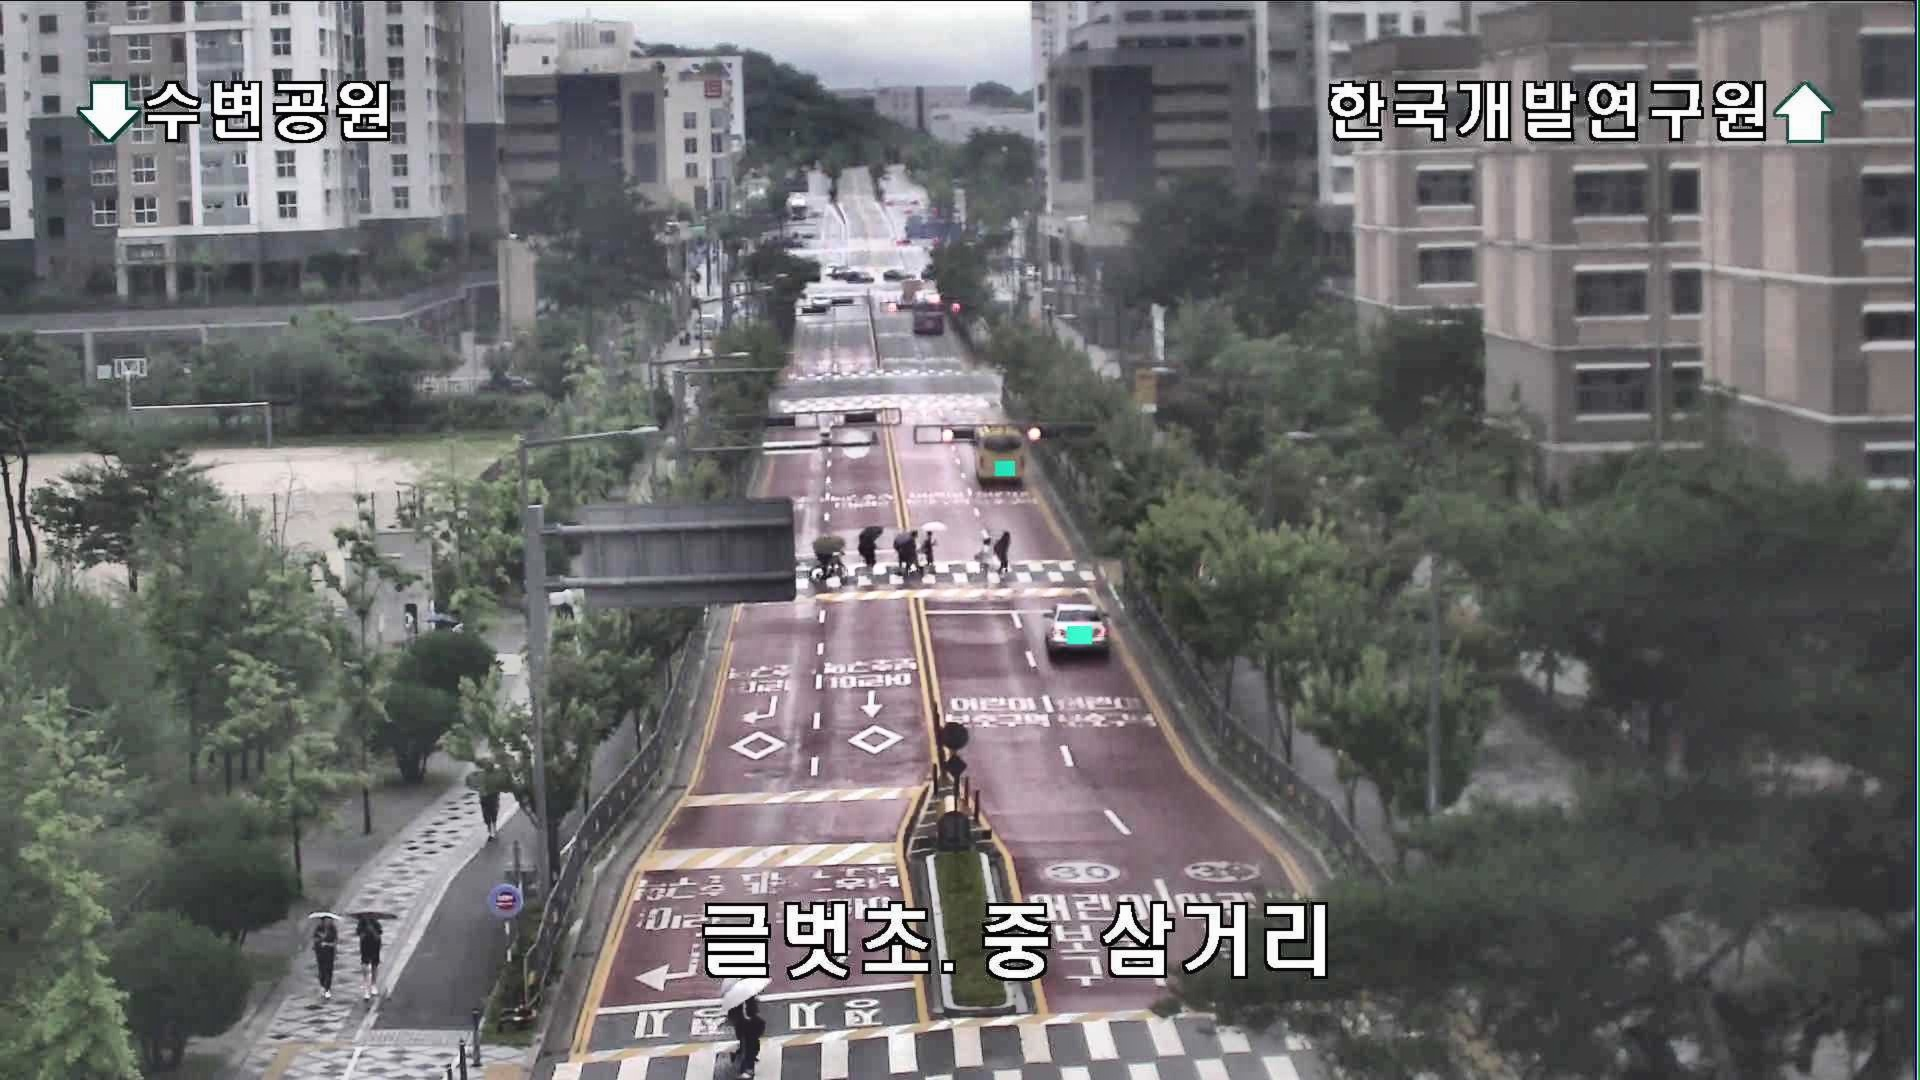crosswalk: (996, 527, 1014, 576), (975, 537, 990, 580)
um_crosswalk: (723, 975, 771, 1080), (814, 537, 845, 579), (923, 522, 945, 574), (860, 527, 884, 574), (894, 533, 915, 576)
um_sidewalk: (340, 902, 396, 1002), (297, 909, 343, 1004), (465, 769, 505, 841)
